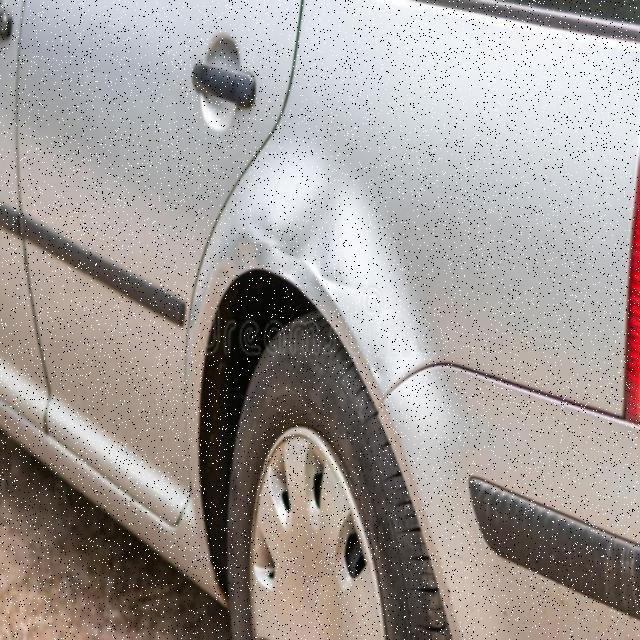quaterpanel-dent: (226, 28, 640, 432)
